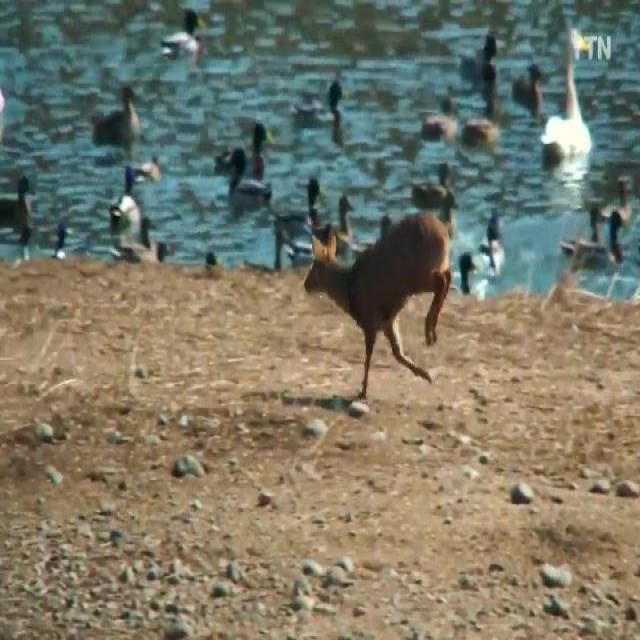deer: (304, 209, 452, 399)
